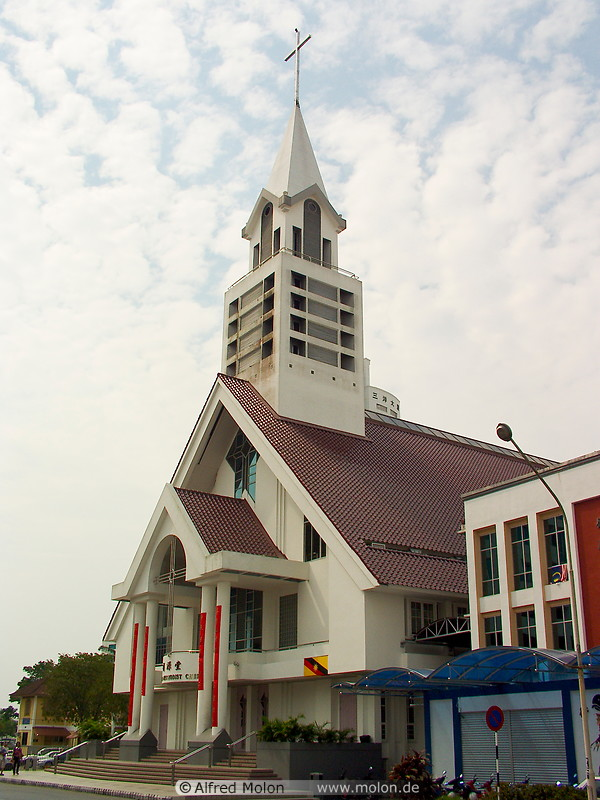Church: (103, 13, 576, 752)
